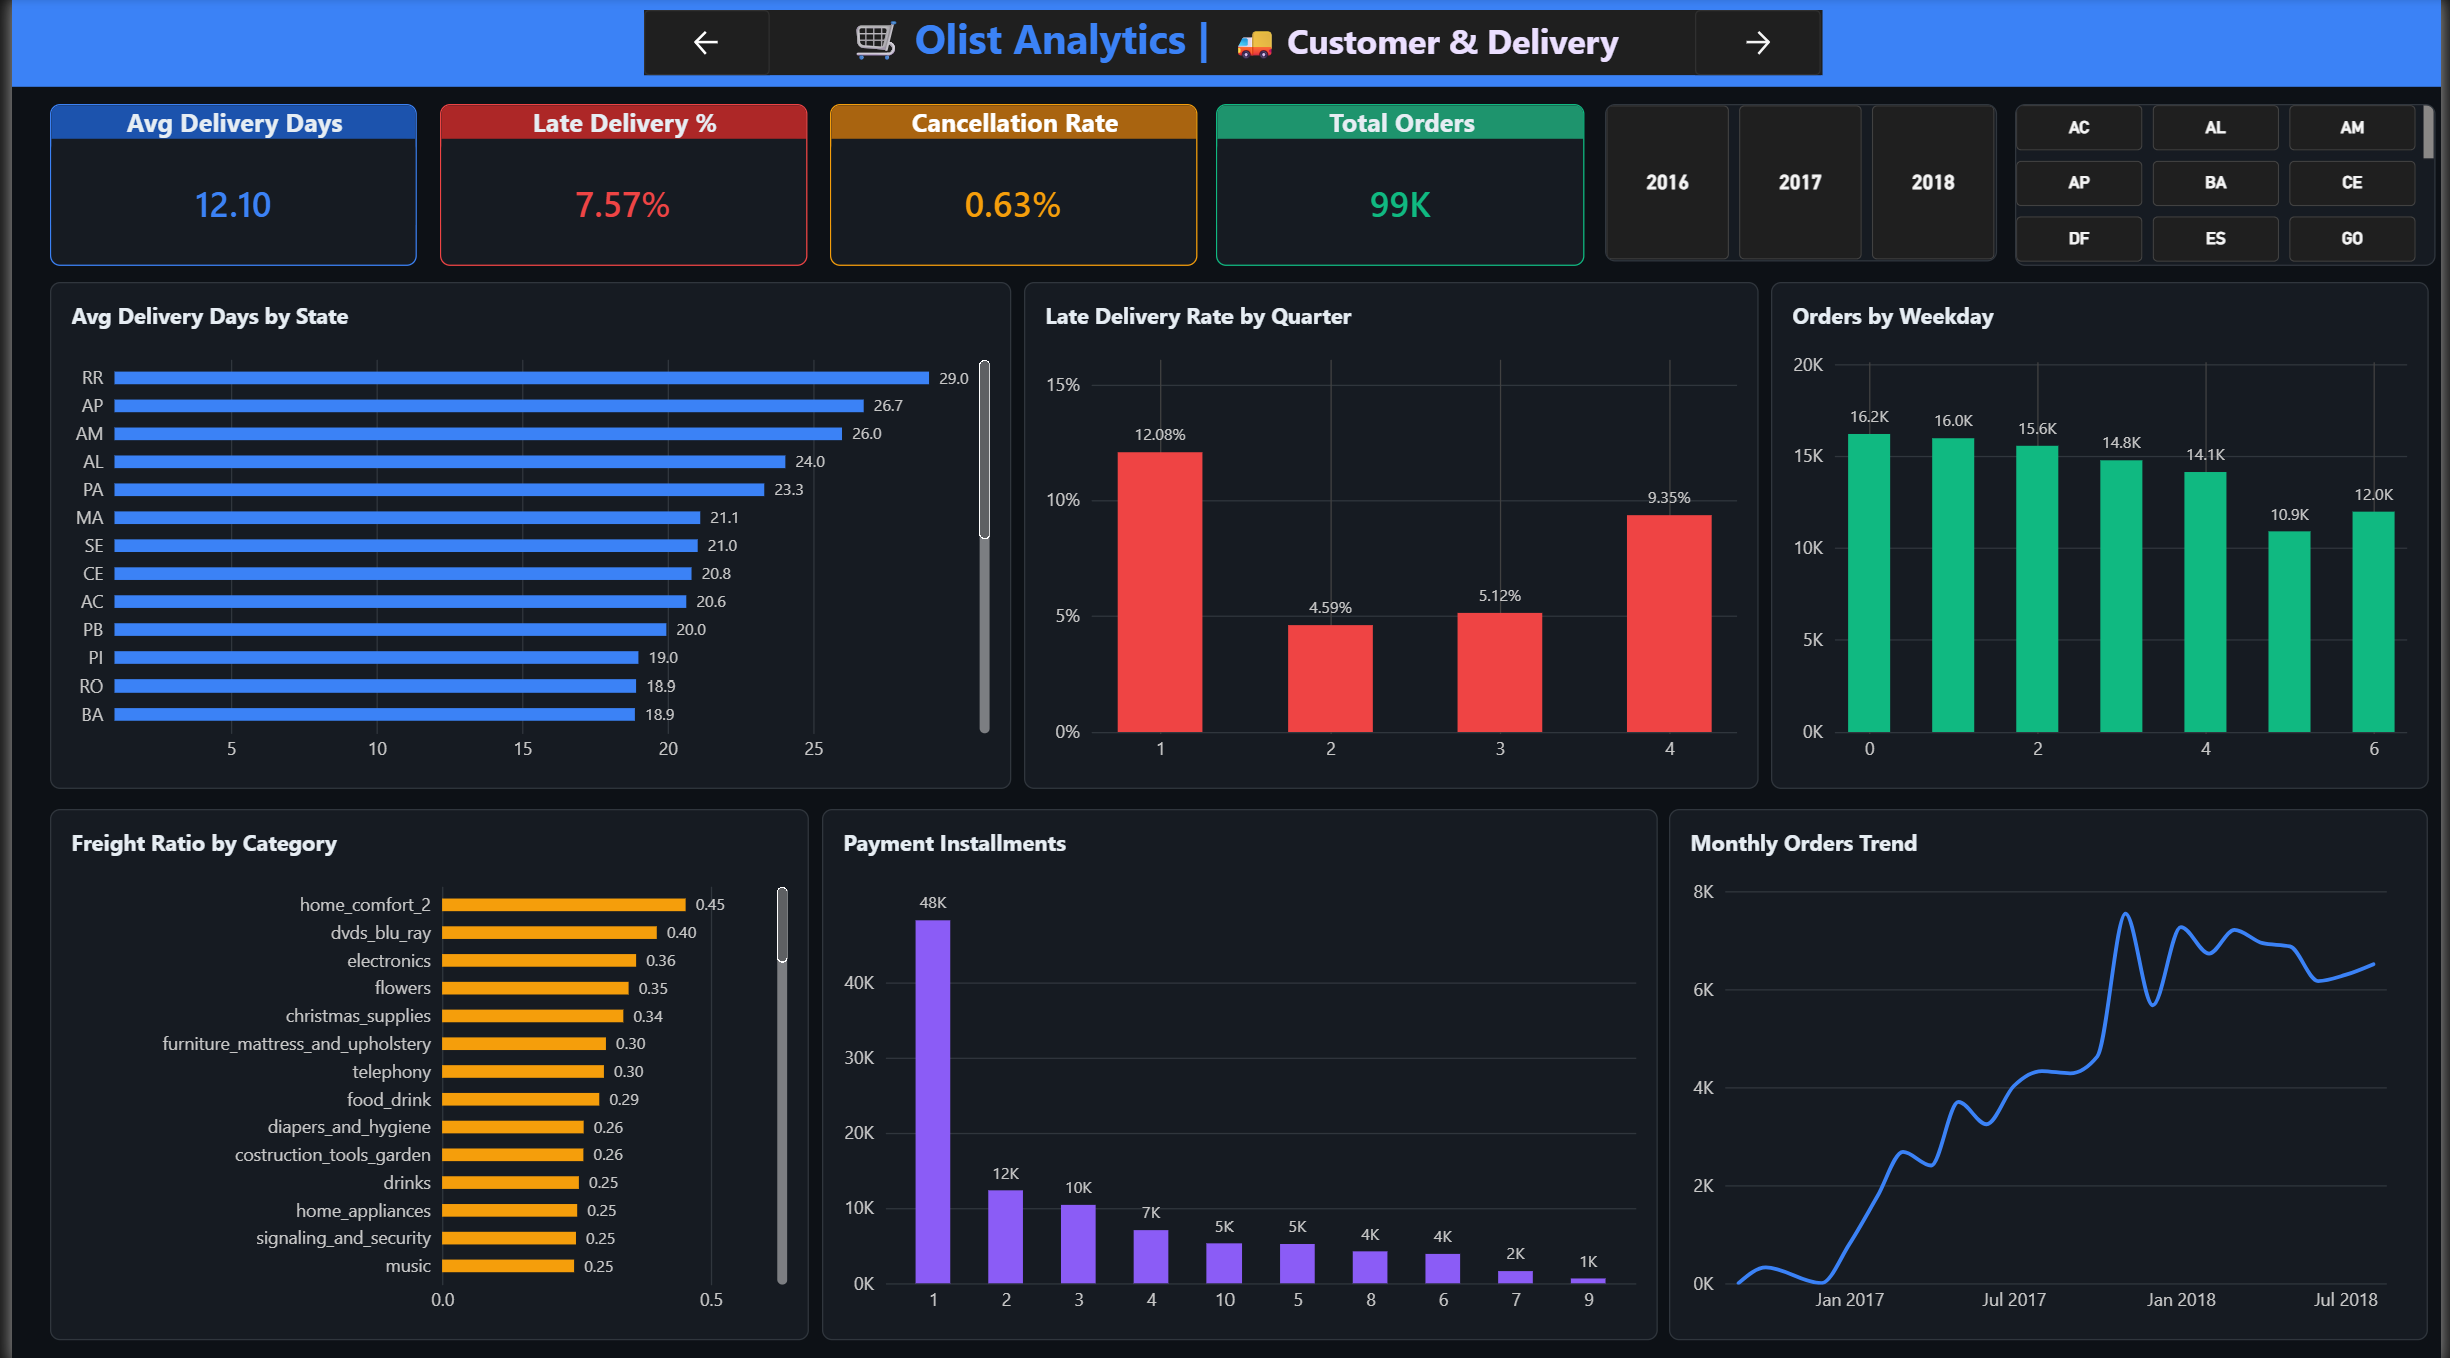

The dashboard page shown, as its layout file describes it:
{"tool":"powerbi","page":{"name":"Customer & Delivery","canvas":[1920,1080],"ordinal":1},"visuals":[{"type":"barChart","title":"📦 Avg Delivery Days by State","fields":{"Category":["fact_orders.customer_state"],"Y":["fact_orders.Avg Delivery Days"]},"box":[30,225,760,400],"z":2000},{"type":"clusteredColumnChart","title":"📉 Late Delivery Rate by Quarter","fields":{"Category":["fact_orders.purchase_quarter"],"Y":["fact_orders.Late Delivery Rate"]},"box":[800,225,580,400],"z":2000},{"type":"clusteredColumnChart","title":"📅 Orders by Weekday","fields":{"Category":["fact_orders.purchase_weekday"],"Y":["fact_orders.Total Orders"]},"box":[1390,225,520,400],"z":2000},{"type":"barChart","title":"📦 Freight Ratio by Category","fields":{"Category":["fact_orders.product_category_en"],"Y":["fact_orders.freight_ratio"]},"box":[30,640,600,420],"z":2000},{"type":"clusteredColumnChart","title":"💳 Payment Installments","fields":{"Category":["fact_orders.payment_installments"],"Y":["fact_orders.Total Orders"]},"box":[640,640,660,420],"z":2000},{"type":"lineChart","title":"📈 Monthly Orders Trend","fields":{"Category":["fact_orders.year_month"],"Y":["fact_orders.Total Orders"]},"box":[1310,640,600,420],"z":2000},{"type":"cardVisual","title":"📅 Avg Delivery Days","fields":{"Data":["fact_orders.Avg Delivery Days"]},"box":[30,85,225,125],"z":5000},{"type":"cardVisual","title":"⚠️ Late Delivery %","fields":{"Data":["fact_orders.Late Delivery Rate"]},"box":[265,85,225,125],"z":5000},{"type":"cardVisual","title":"❌ Cancellation Rate","fields":{"Data":["fact_orders.Cancellation Rate"]},"box":[500,85,225,125],"z":5000},{"type":"cardVisual","title":"👤 Total Orders","fields":{"Data":["fact_orders.Total Orders"]},"box":[735,85,225,125],"z":5000},{"type":"advancedSlicerVisual","fields":{"Values":["fact_orders.purchase_year"]},"box":[1500,80,200,130],"z":7000},{"type":"advancedSlicerVisual","fields":{"Values":["fact_orders.customer_state"]},"box":[1710,80,200,130],"z":7000},{"type":"textbox","box":[32,10,900,52],"z":8500},{"type":"shape","box":[0,0,1920,70],"z":9000}]}

Visuals, with their boxes in screenshot pixels (x1, y1, x2, y2), scaled from the page's 1920x1080 canvas onto the 2450x1358 screenshot:
"📦 Avg Delivery Days by State" barChart: locate(38, 283, 1008, 786)
"📉 Late Delivery Rate by Quarter" clusteredColumnChart: locate(1021, 283, 1761, 786)
"📅 Orders by Weekday" clusteredColumnChart: locate(1774, 283, 2437, 786)
"📦 Freight Ratio by Category" barChart: locate(38, 805, 804, 1333)
"💳 Payment Installments" clusteredColumnChart: locate(817, 805, 1659, 1333)
"📈 Monthly Orders Trend" lineChart: locate(1672, 805, 2437, 1333)
"📅 Avg Delivery Days" cardVisual: locate(38, 107, 325, 264)
"⚠️ Late Delivery %" cardVisual: locate(338, 107, 625, 264)
"❌ Cancellation Rate" cardVisual: locate(638, 107, 925, 264)
"👤 Total Orders" cardVisual: locate(938, 107, 1225, 264)
advancedSlicerVisual - fact_orders.purchase_year: locate(1914, 101, 2169, 264)
advancedSlicerVisual - fact_orders.customer_state: locate(2182, 101, 2437, 264)
textbox: locate(41, 13, 1189, 78)
shape: locate(0, 0, 2449, 88)
